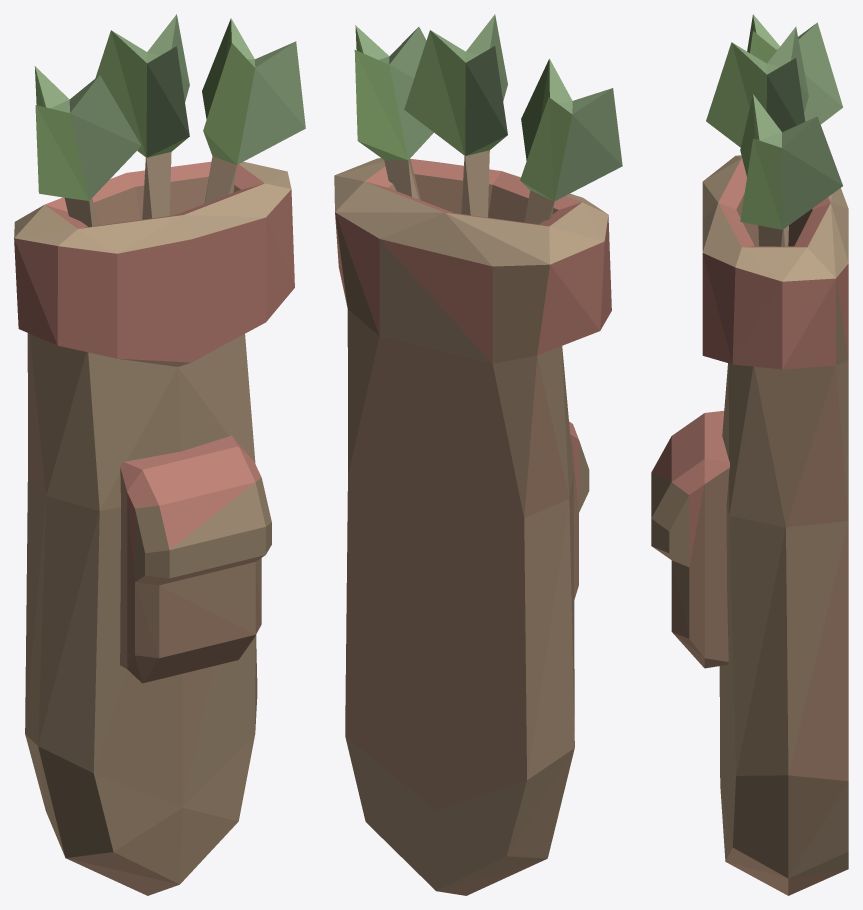
3 views of the same model, side by side, from view 1: azimuth 30°, elevation 25°; view 2: azimuth 150°, elevation 25°; view 3: azimuth 270°, elevation 25° (orthographic). The views are drawn at different scales.
Parts seen in each view (by area): view 1: model; view 2: model; view 3: model.
Part boxes in pixels (left/top/right/bottom): model: left=14, top=14, right=305, bottom=895; model: left=334, top=14, right=622, bottom=895; model: left=651, top=14, right=848, bottom=895.
Bounding box in the file's own units: 0.2291 × 0.697 × 0.1459.
